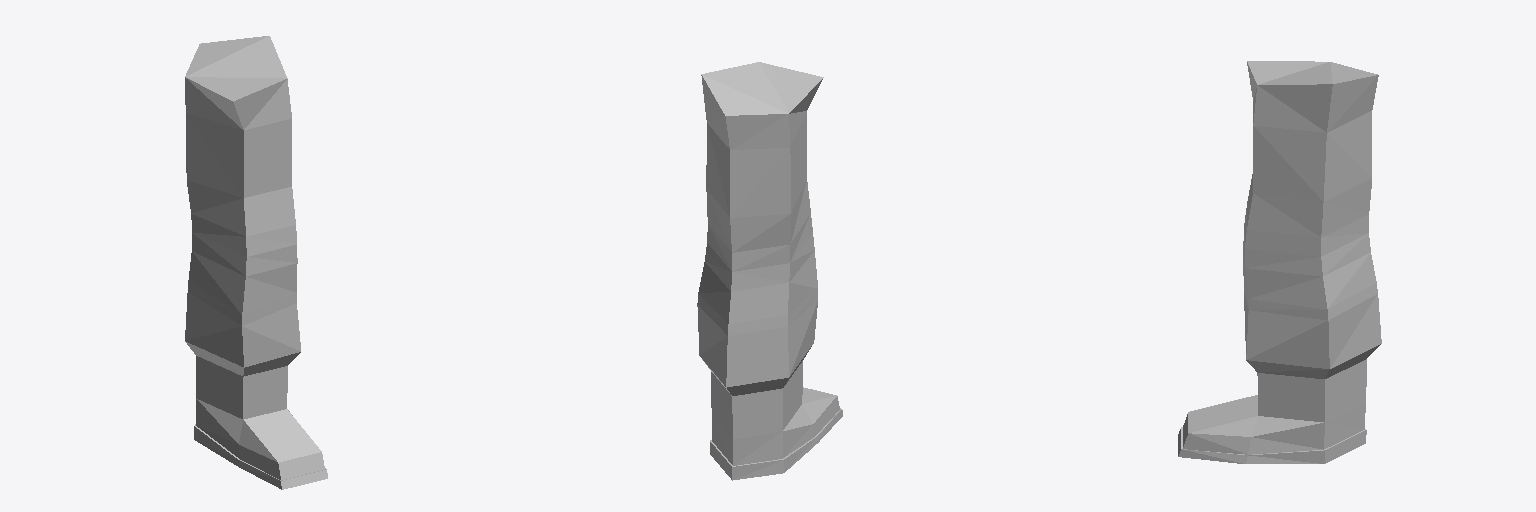
Rendered from astronauta_reloded_rightleg.obj.
3 renders of one model, left to right at view 1: azimuth 30°, elevation 25°; view 2: azimuth 150°, elevation 25°; view 3: azimuth 270°, elevation 25°, orthographic.
Parts seen in each view (by area): view 1: Astronauta_Cubo; view 2: Astronauta_Cubo; view 3: Astronauta_Cubo.
Boxes of the visible parts, box(x1,y1,x2,y2) form: Astronauta_Cubo: box(185, 36, 327, 489); Astronauta_Cubo: box(697, 62, 842, 480); Astronauta_Cubo: box(1178, 61, 1381, 463).
Bounding box in the file's own units: 0.1566 × 0.6173 × 0.298.